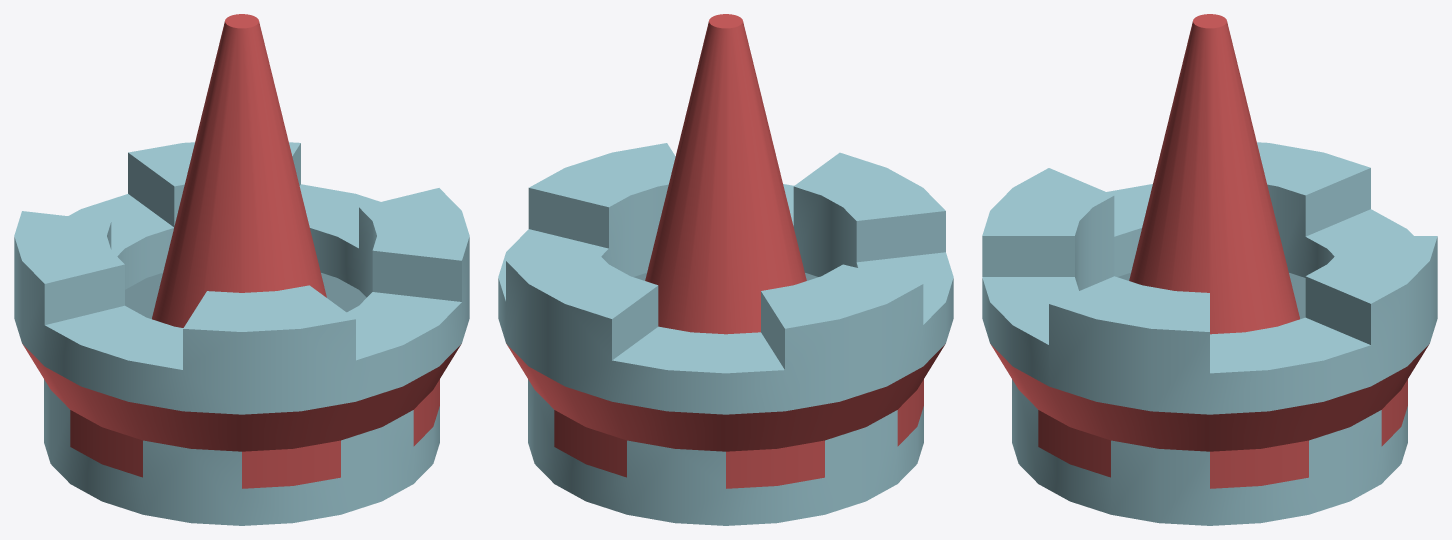
File: towerRound_roofC.dae
The picture shows the model from 3 angles, left to right: view 1: azimuth 30°, elevation 25°; view 2: azimuth 150°, elevation 25°; view 3: azimuth 270°, elevation 25°; orthographic projection.
Visible parts, largest first — view 1: towerRound_roofC; view 2: towerRound_roofC; view 3: towerRound_roofC.
Boxes of the visible parts, left/top/right/bottom form: towerRound_roofC: left=14, top=14, right=469, bottom=525; towerRound_roofC: left=498, top=14, right=953, bottom=525; towerRound_roofC: left=982, top=14, right=1437, bottom=525.
Size of the model in its own units: 1 by 1.02 by 1.
